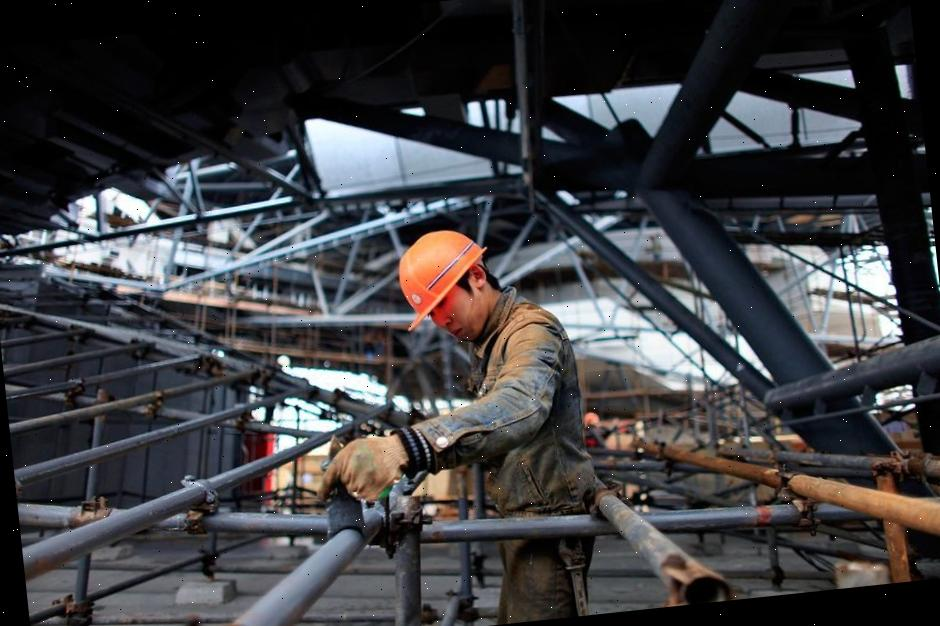helmet: (380, 223, 498, 320)
no_wear: (456, 322, 597, 521)
